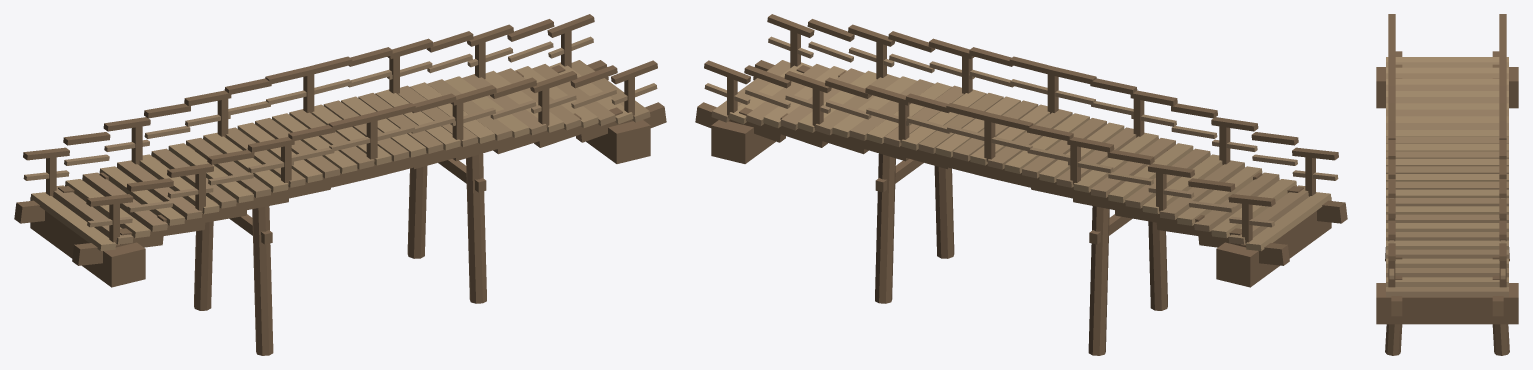
File: aoe_wooden_footbridge_01.glb
3 views of the same model, side by side, from view 1: azimuth 30°, elevation 25°; view 2: azimuth 150°, elevation 25°; view 3: azimuth 270°, elevation 25° (orthographic). The views are drawn at different scales.
Visible parts, largest first — view 1: Cube.028, Cylinder, Cylinder.002, Cube.029, Cylinder.003, Cylinder.001, Cube.032, Cube.035, Cube.037, Cube.036, Cube.040, Cube.041 (+39 smaller); view 2: Cube.028, Cylinder.001, Cylinder.003, Cube.029, Cylinder.002, Cylinder, Cube.032, Cube.035, Cube.037, Cube.036, Cube.040, Cube.041 (+39 smaller); view 3: Cube.029, Cube.063, Cube.058, Cube.060, Cube.061, Cube.059, Cube.062, Cube.054, Cube.056, Cube.057, Cube.053, Cube.051 (+50 smaller).
Boxes of the visible parts, x1=… form: Cube.028: x1=30, y1=197, x2=145, y2=287; Cylinder: x1=252, y1=206, x2=273, y2=355; Cylinder.002: x1=466, y1=153, x2=486, y2=303; Cube.029: x1=586, y1=120, x2=650, y2=163; Cylinder.003: x1=407, y1=166, x2=427, y2=258; Cylinder.001: x1=194, y1=221, x2=213, y2=310; Cube.032: x1=30, y1=192, x2=116, y2=251; Cube.035: x1=82, y1=172, x2=167, y2=231; Cube.037: x1=117, y1=160, x2=202, y2=219; Cube.036: x1=99, y1=166, x2=184, y2=225; Cube.040: x1=168, y1=143, x2=253, y2=203; Cube.041: x1=186, y1=138, x2=271, y2=197; Cube.028: x1=1216, y1=197, x2=1331, y2=287; Cylinder.001: x1=1088, y1=206, x2=1109, y2=355; Cylinder.003: x1=875, y1=153, x2=895, y2=303; Cube.029: x1=711, y1=120, x2=775, y2=163; Cylinder.002: x1=934, y1=166, x2=954, y2=258; Cylinder: x1=1148, y1=221, x2=1167, y2=310; Cube.032: x1=1245, y1=192, x2=1331, y2=251; Cube.035: x1=1194, y1=172, x2=1279, y2=231; Cube.037: x1=1159, y1=160, x2=1244, y2=219; Cube.036: x1=1177, y1=166, x2=1262, y2=225; Cube.040: x1=1108, y1=143, x2=1193, y2=203; Cube.041: x1=1090, y1=138, x2=1175, y2=197; Cube.029: x1=1376, y1=283, x2=1518, y2=324; Cube.063: x1=1386, y1=287, x2=1508, y2=297; Cube.058: x1=1386, y1=240, x2=1508, y2=249; Cube.060: x1=1386, y1=258, x2=1508, y2=267; Cube.061: x1=1386, y1=268, x2=1508, y2=277; Cube.059: x1=1386, y1=249, x2=1508, y2=258; Cube.062: x1=1386, y1=277, x2=1508, y2=286; Cube.054: x1=1386, y1=206, x2=1508, y2=214; Cube.056: x1=1386, y1=223, x2=1508, y2=231; Cube.057: x1=1386, y1=232, x2=1508, y2=240; Cube.053: x1=1386, y1=198, x2=1508, y2=206; Cube.051: x1=1386, y1=181, x2=1508, y2=189.
Bounding box in the file's own units: 12.11 × 4.19 × 2.9.
